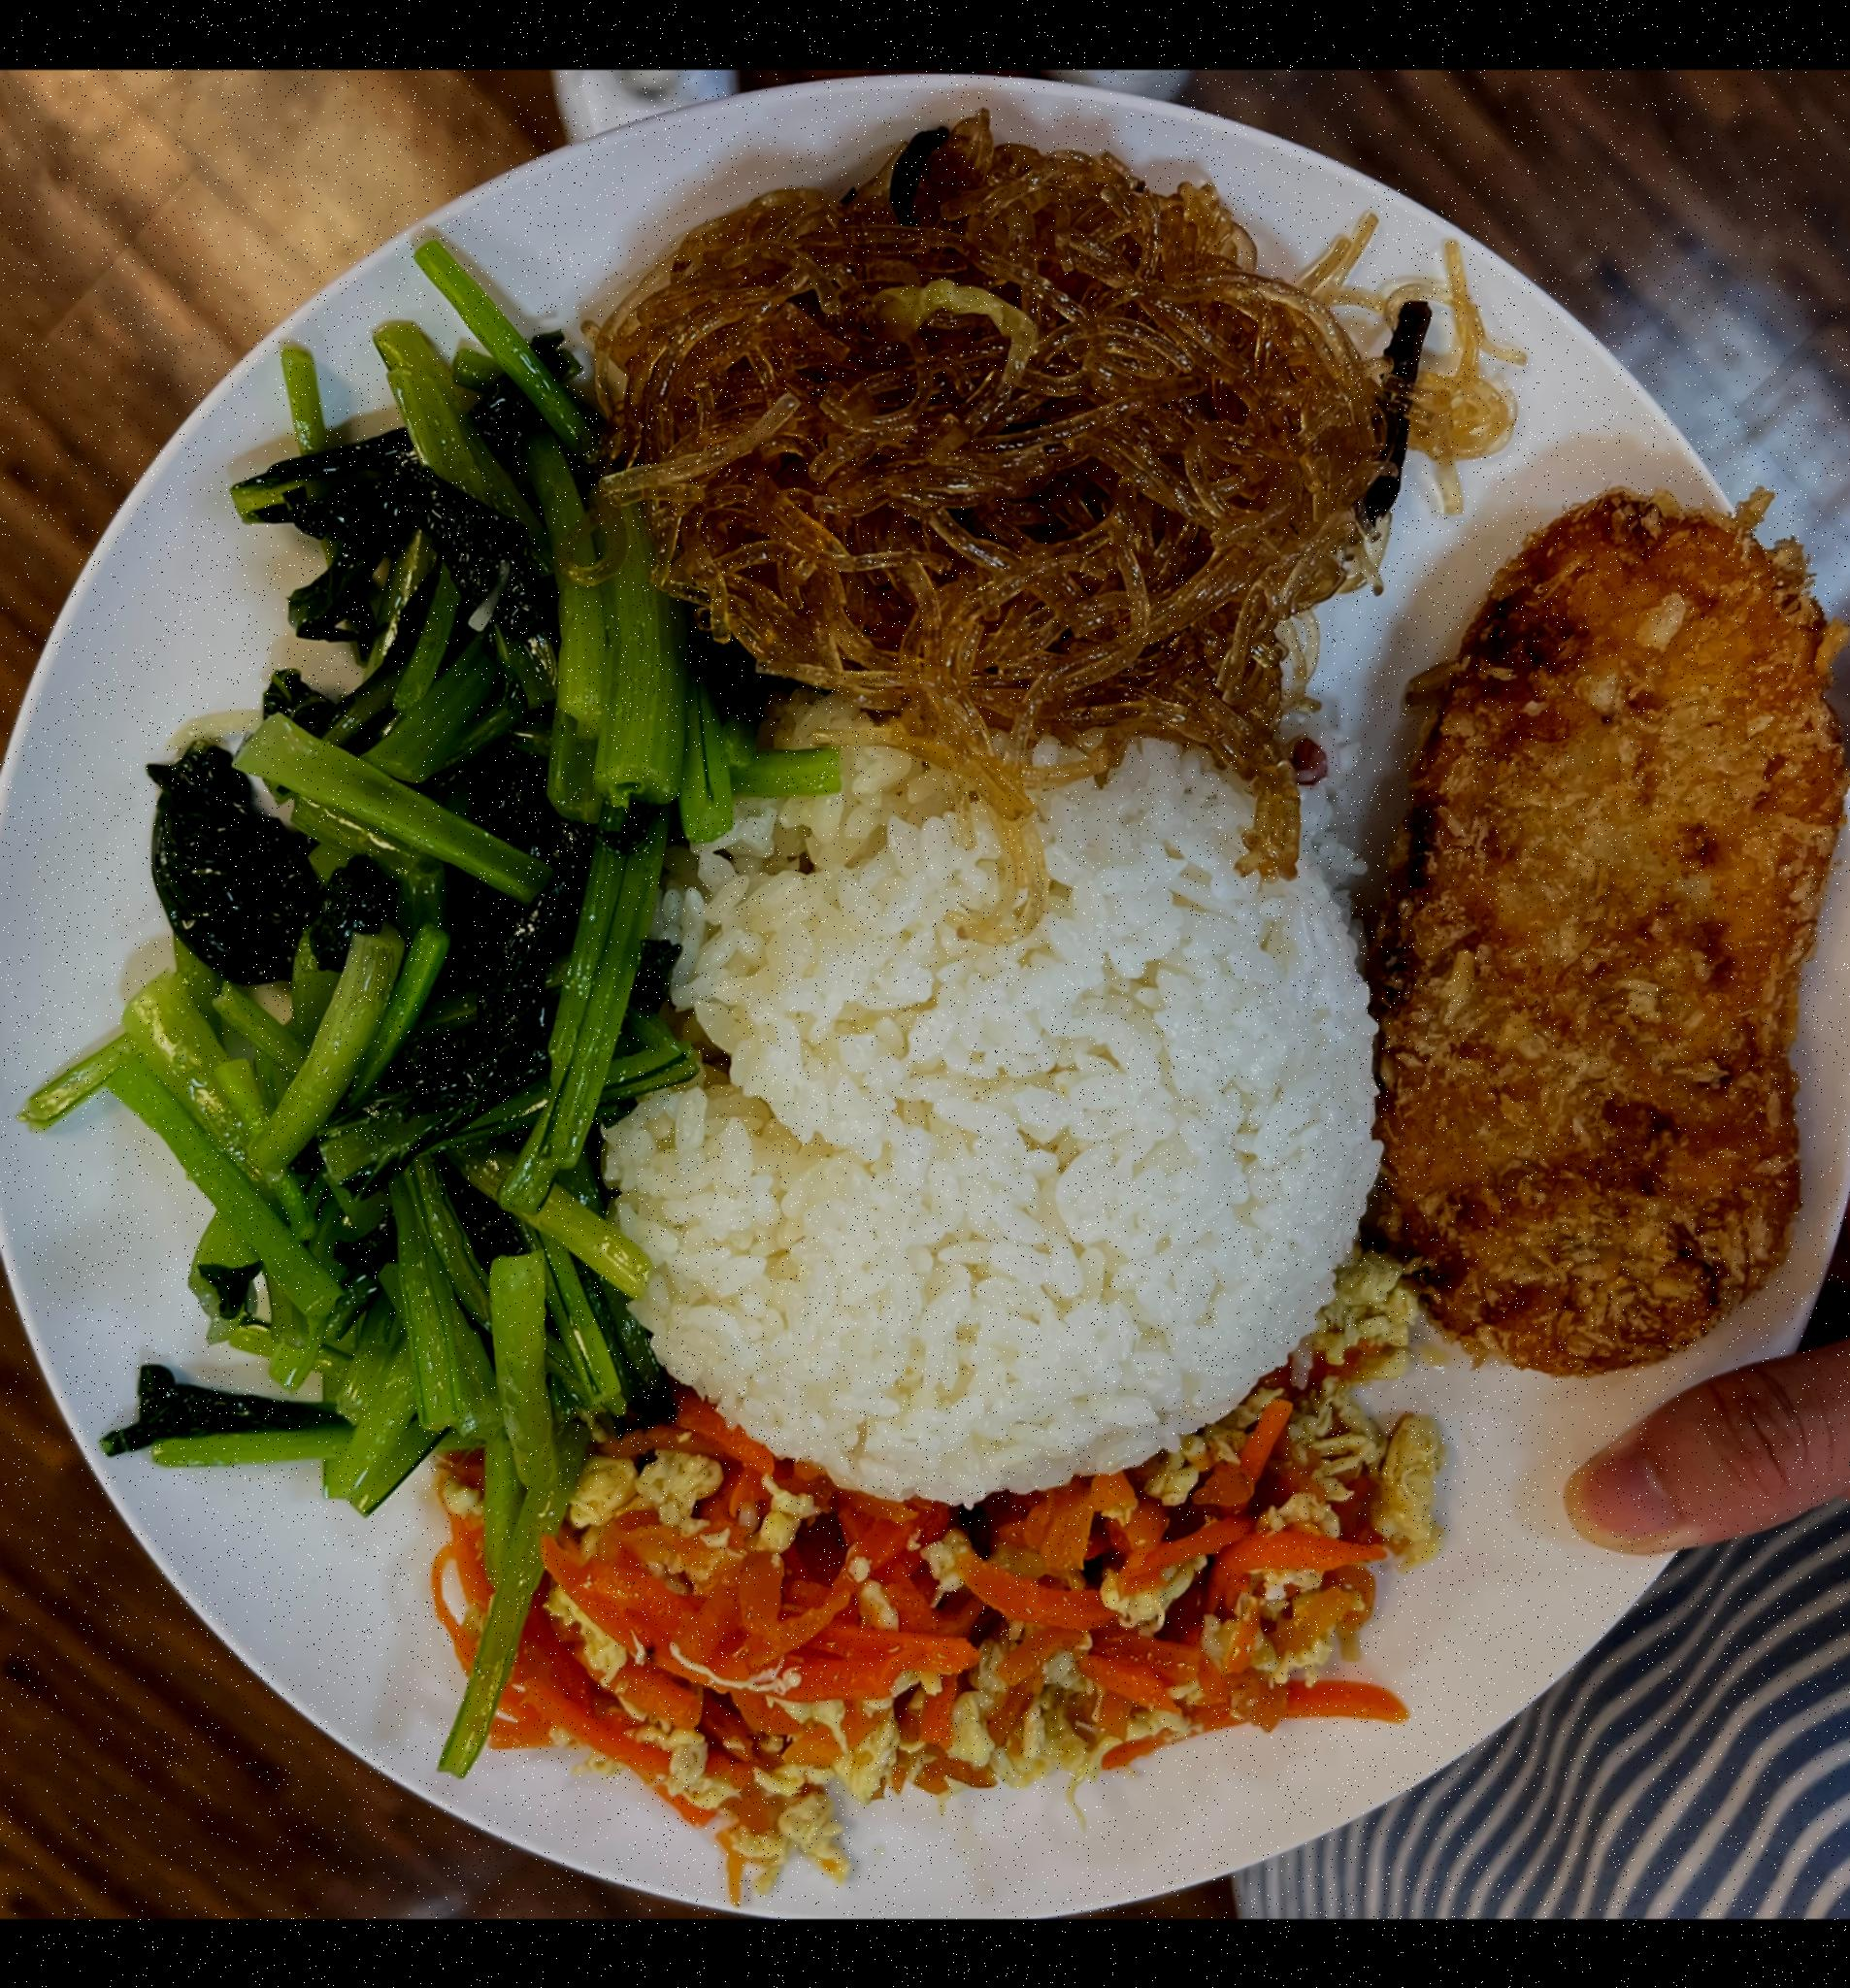big fried chicken leg: (0, 71, 1850, 1918)
big herbal chicken leg: (588, 678, 1393, 1489)
braised fish fillet: (123, 357, 689, 1527), (563, 151, 1379, 753), (440, 1409, 1422, 1819)
braised pork: (1346, 473, 1850, 1391)
